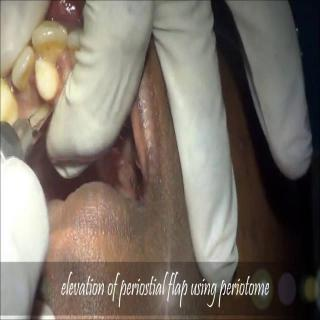maligned: (26, 18, 74, 66), (30, 55, 70, 111)
